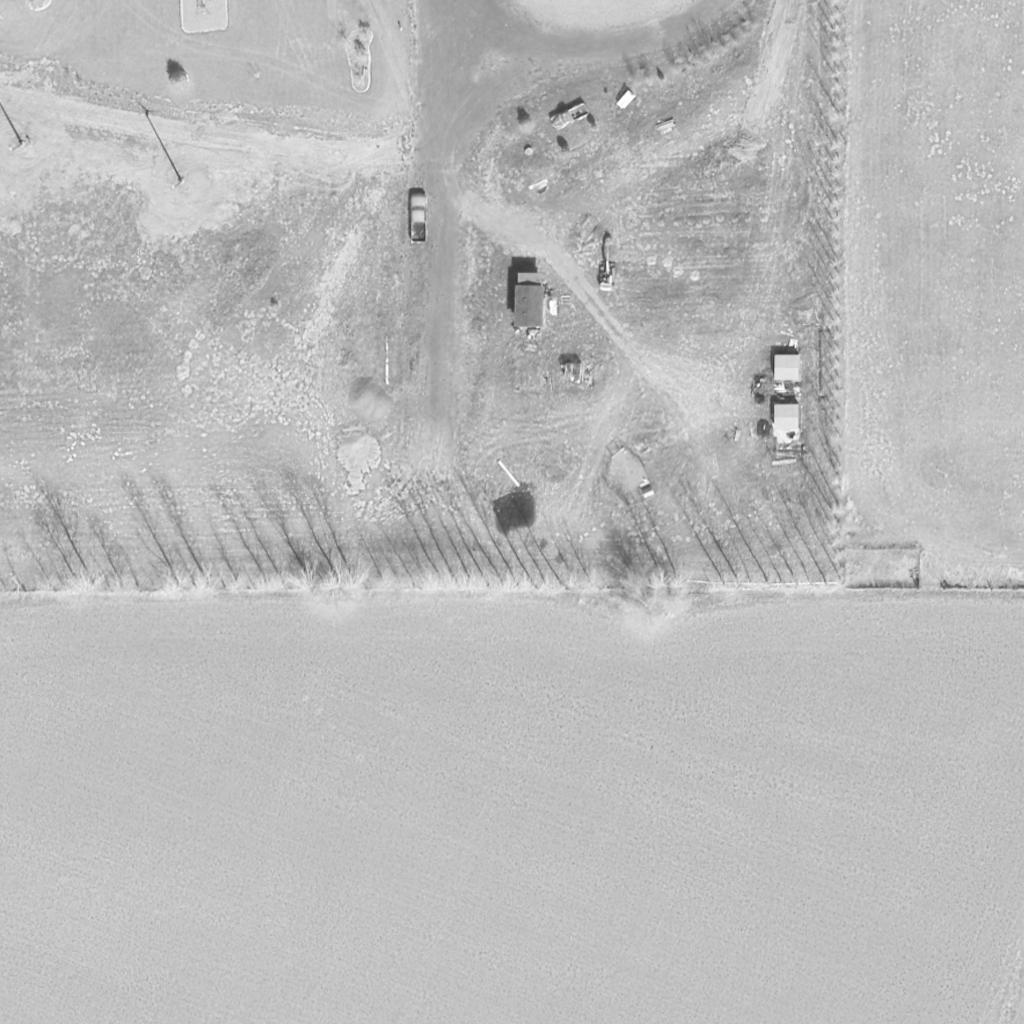vehicle: (551, 101, 595, 133), (409, 189, 427, 243), (600, 233, 616, 293)
